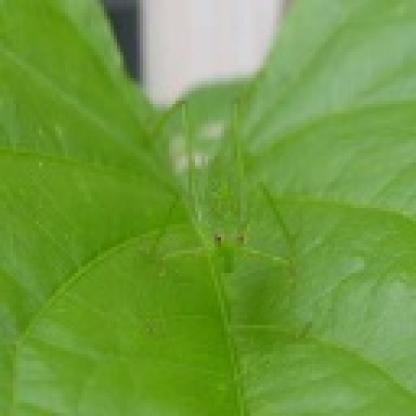grasshopper: (154, 80, 299, 284)
